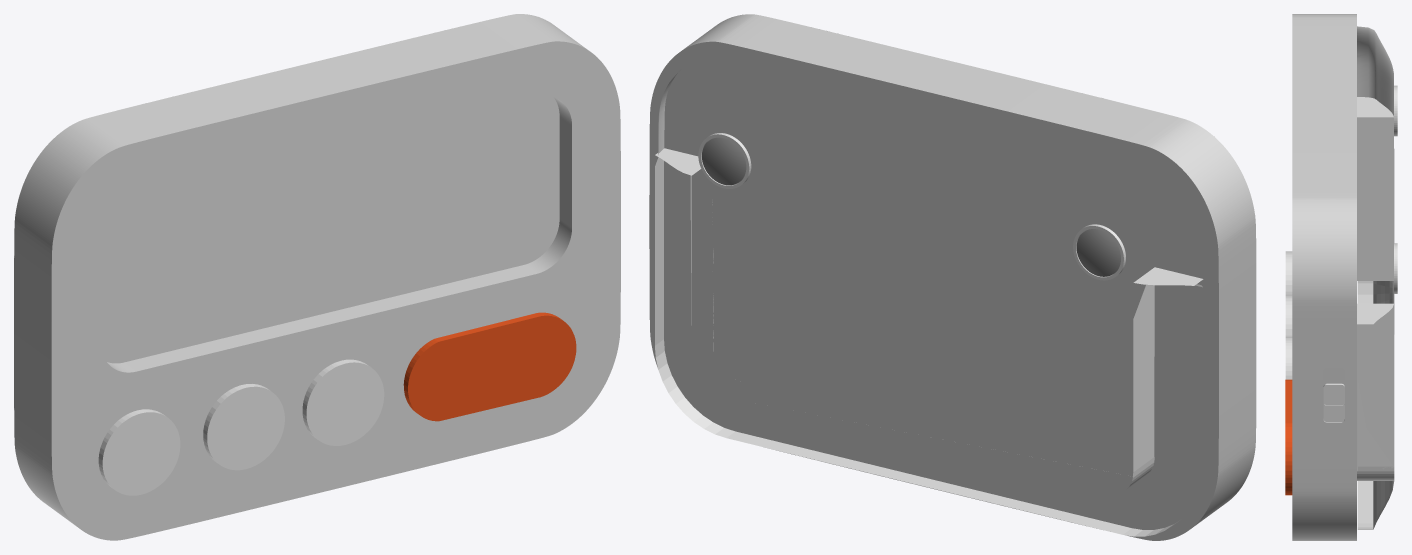
Rendered from clocks.gltf.glb.
3 views of the same model, side by side, from view 1: azimuth 30°, elevation 25°; view 2: azimuth 150°, elevation 25°; view 3: azimuth 270°, elevation 25° (orthographic). The views are drawn at different scales.
Visible parts, largest first — view 1: Base, Cylinder.001, Cylinder.004, Cylinder.006, Cylinder.005; view 2: Base, Stand, Back base, Cylinder.009, Cylinder.002, Cylinder.008, Cylinder; view 3: Base, Back base, Stand, Cylinder.001, Mute btn base, Cylinder.004, Cylinder.006, Cylinder.005, Cylinder.008, Cylinder.
Boxes of the visible parts, x1=… form: Base: x1=14, y1=14, x2=620, y2=540; Cylinder.001: x1=403, y1=312, x2=576, y2=421; Cylinder.004: x1=98, y1=409, x2=180, y2=495; Cylinder.006: x1=302, y1=359, x2=384, y2=445; Cylinder.005: x1=203, y1=384, x2=284, y2=470; Base: x1=649, y1=14, x2=1256, y2=540; Stand: x1=655, y1=157, x2=1202, y2=536; Back base: x1=655, y1=70, x2=1203, y2=481; Cylinder.009: x1=1076, y1=229, x2=1120, y2=276; Cylinder.002: x1=702, y1=137, x2=746, y2=185; Cylinder.008: x1=1073, y1=224, x2=1125, y2=280; Cylinder: x1=698, y1=133, x2=751, y2=188; Base: x1=1292, y1=14, x2=1356, y2=540; Back base: x1=1357, y1=26, x2=1393, y2=480; Stand: x1=1357, y1=149, x2=1394, y2=529; Cylinder.001: x1=1285, y1=379, x2=1292, y2=495; Mute btn base: x1=1323, y1=383, x2=1344, y2=421; Cylinder.004: x1=1285, y1=251, x2=1292, y2=295; Cylinder.006: x1=1285, y1=337, x2=1292, y2=379; Cylinder.005: x1=1285, y1=295, x2=1292, y2=336; Cylinder.008: x1=1394, y1=85, x2=1397, y2=136; Cylinder: x1=1394, y1=243, x2=1397, y2=293.
Size of the model in its own units: 3.48 by 2.31 by 0.6913.
